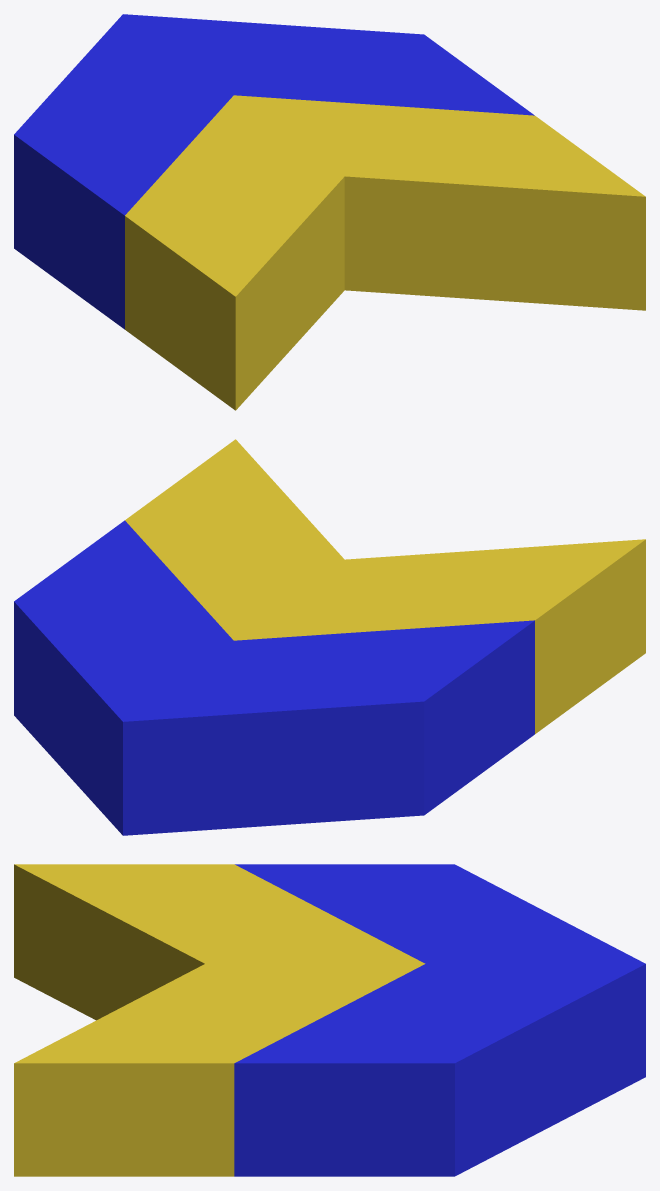
Rendered from deene.fbx.
3 renders of one model, top to bottom at view 1: azimuth 30°, elevation 25°; view 2: azimuth 150°, elevation 25°; view 3: azimuth 270°, elevation 25°, orthographic.
Parts seen in each view (by area): view 1: Cube, Cube.001; view 2: Cube.001, Cube; view 3: Cube.001, Cube.
Part boxes in pixels (x1,y1,x2,y2): Cube: (125, 95, 645, 410); Cube.001: (14, 14, 534, 329); Cube.001: (14, 520, 534, 835); Cube: (125, 439, 645, 733); Cube.001: (234, 864, 645, 1176); Cube: (14, 864, 425, 1176).
Bounding box in the file's own units: 200 × 53.08 × 268.
